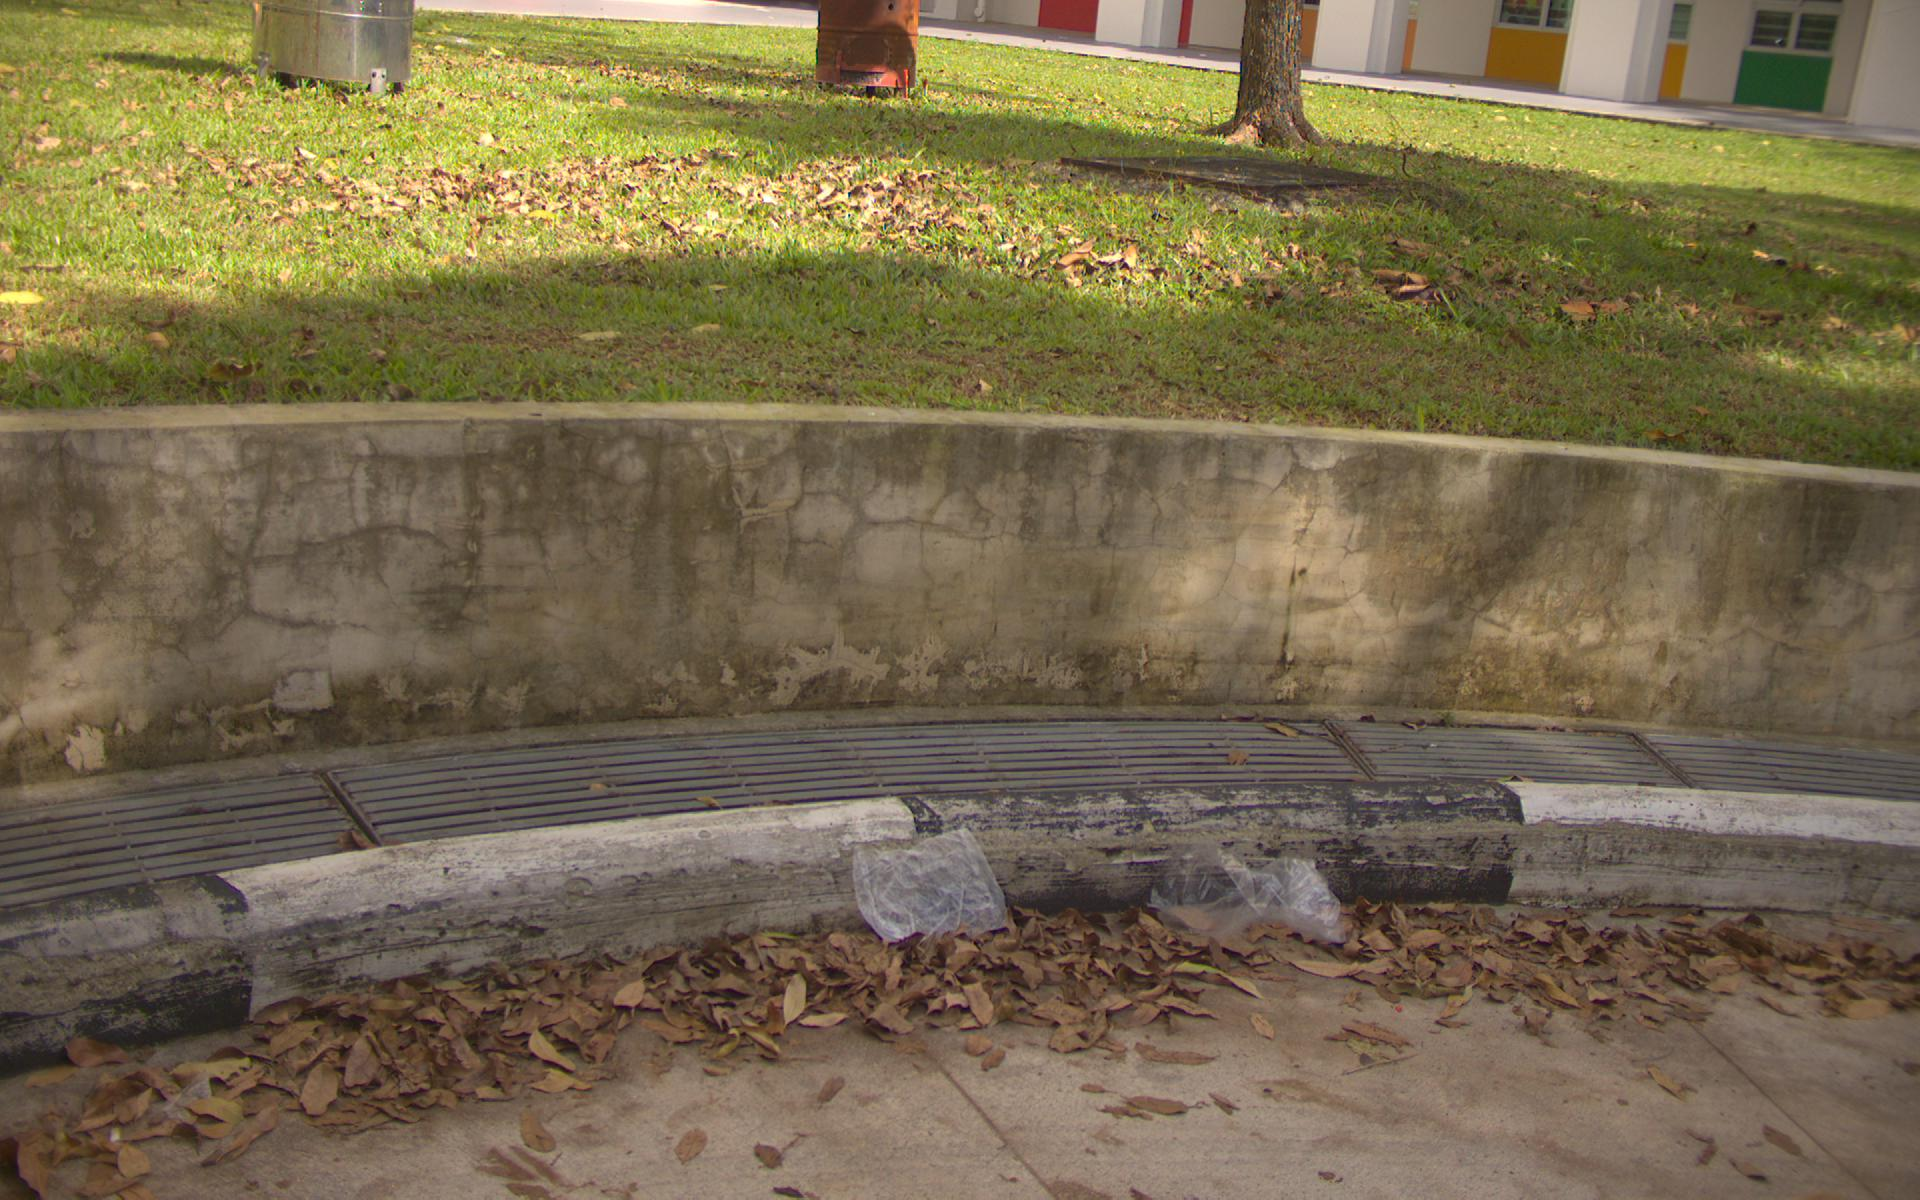curb_dic_low: (719, 701, 1920, 800)
road_curb_medium: (741, 899, 1914, 1049)
road_turf_low: (23, 86, 1906, 395)
